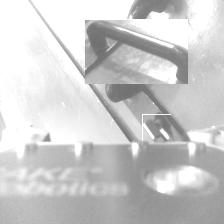Door Handle: (94, 10, 179, 94)
Lock: (142, 114, 171, 141)
